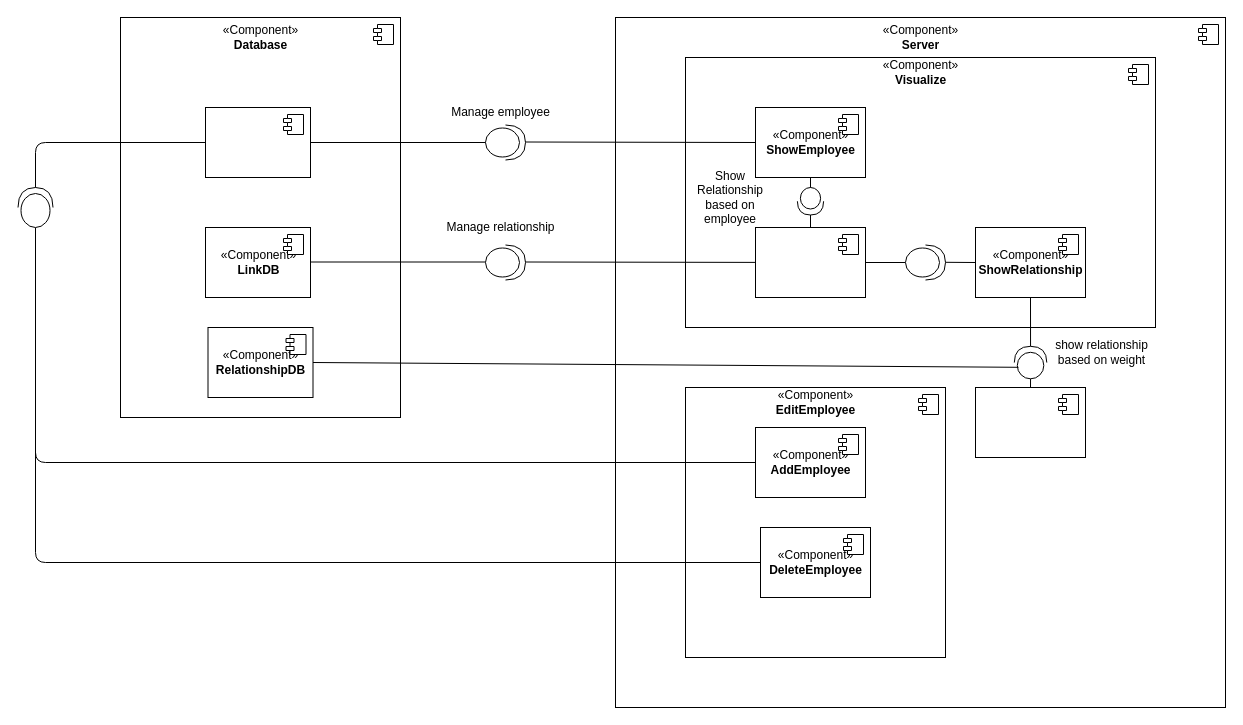
The diagram is 1243 pixels wide and 725 high, and some of its shapes have lost their labels. Here are the shapes that lost their labels. From the top down, the centre of each, then its label:
At (257,142): "«Component» EmployeeDB".
At (810,262): "«Component» ShowLink".
At (1030,422): "«Component» CheckRelationship".
